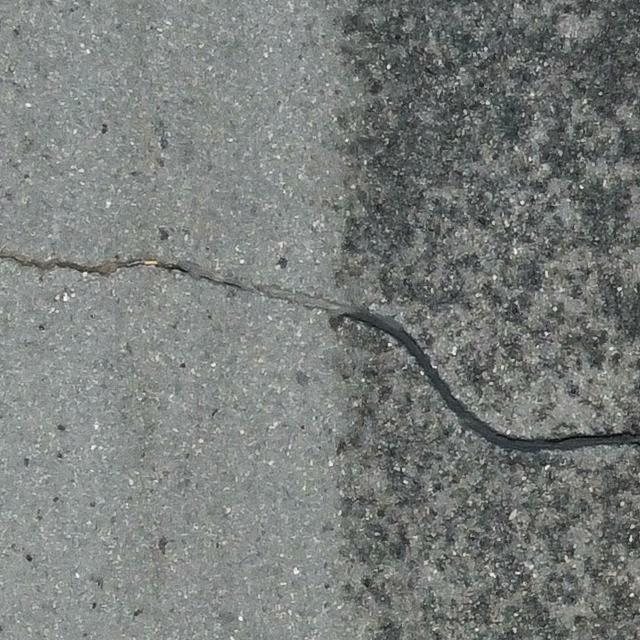TransverseCrack: (1, 246, 640, 455)
